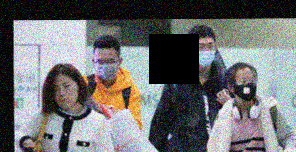with_mask: (192, 39, 216, 69), (233, 73, 258, 101), (93, 55, 119, 81)
without_mask: (51, 77, 80, 111)
